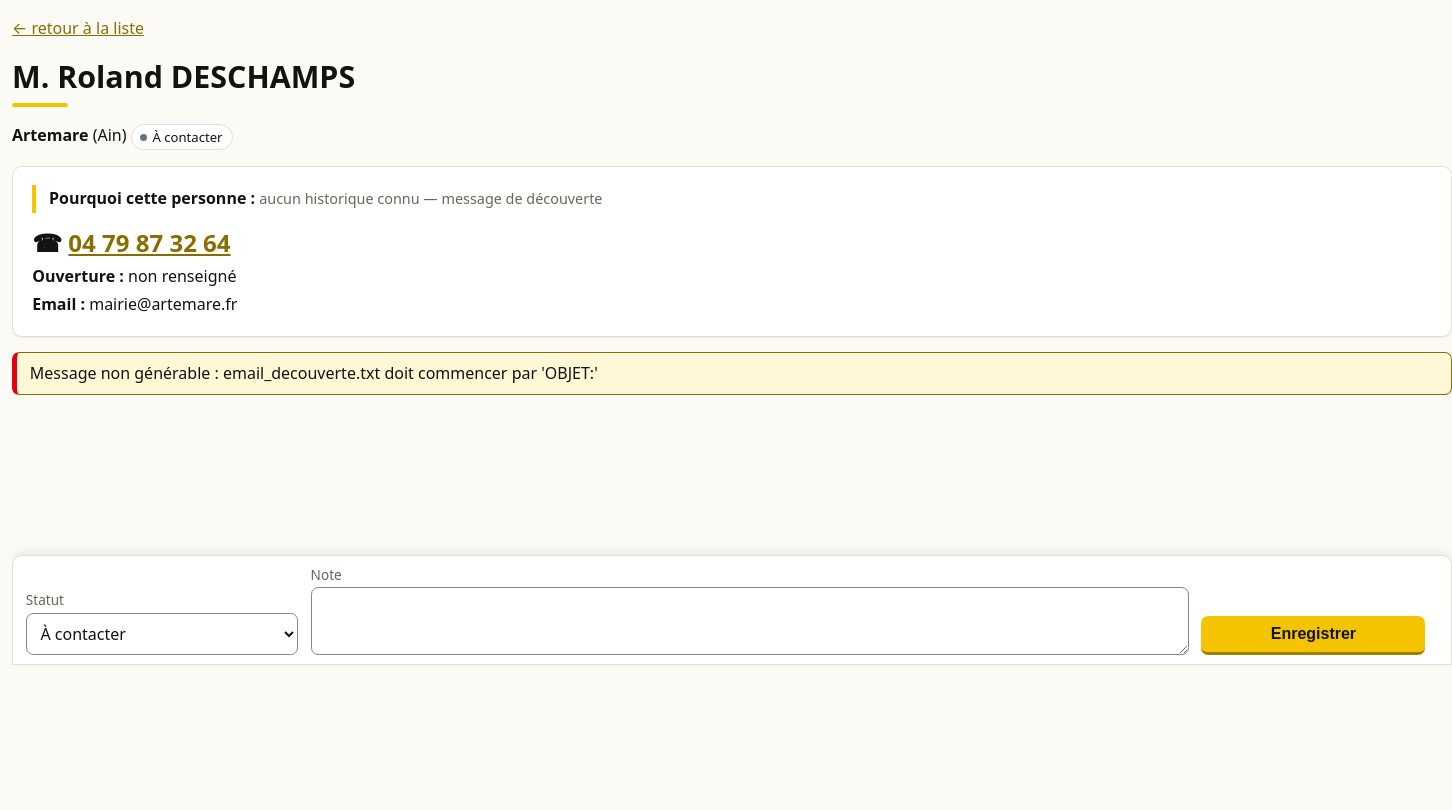
it: Fiche › refuses a press with nothing to file, out loud, and recovers
Click the button "Enregistrer" at (1313, 635), box [1201,616,1425,655]
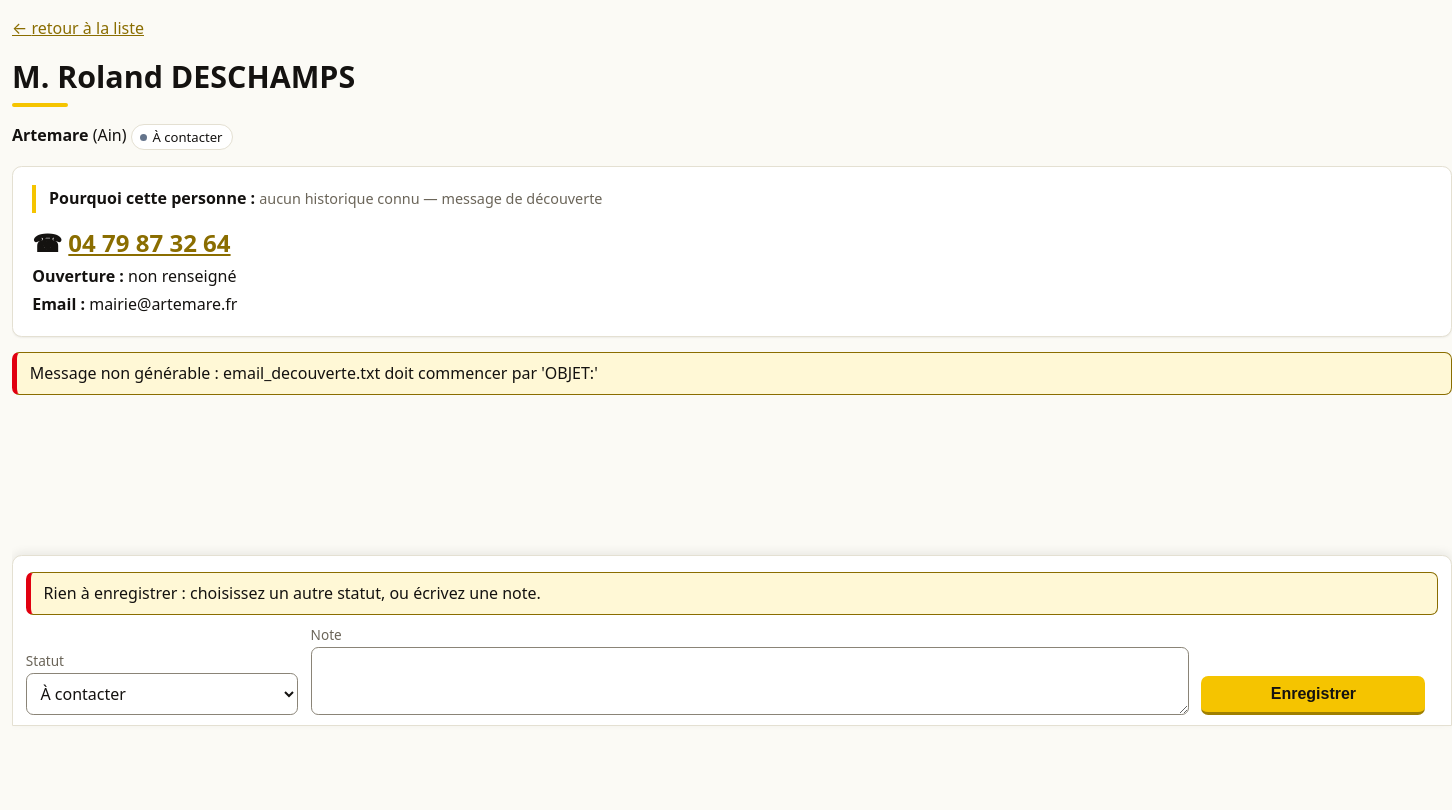
Check: the text "Rien à enregistrer" is shown, box [44,582,541,604]
Select "Email envoyé" in the dropdown labelled "Statut" at (162, 694), box [26,673,298,715]
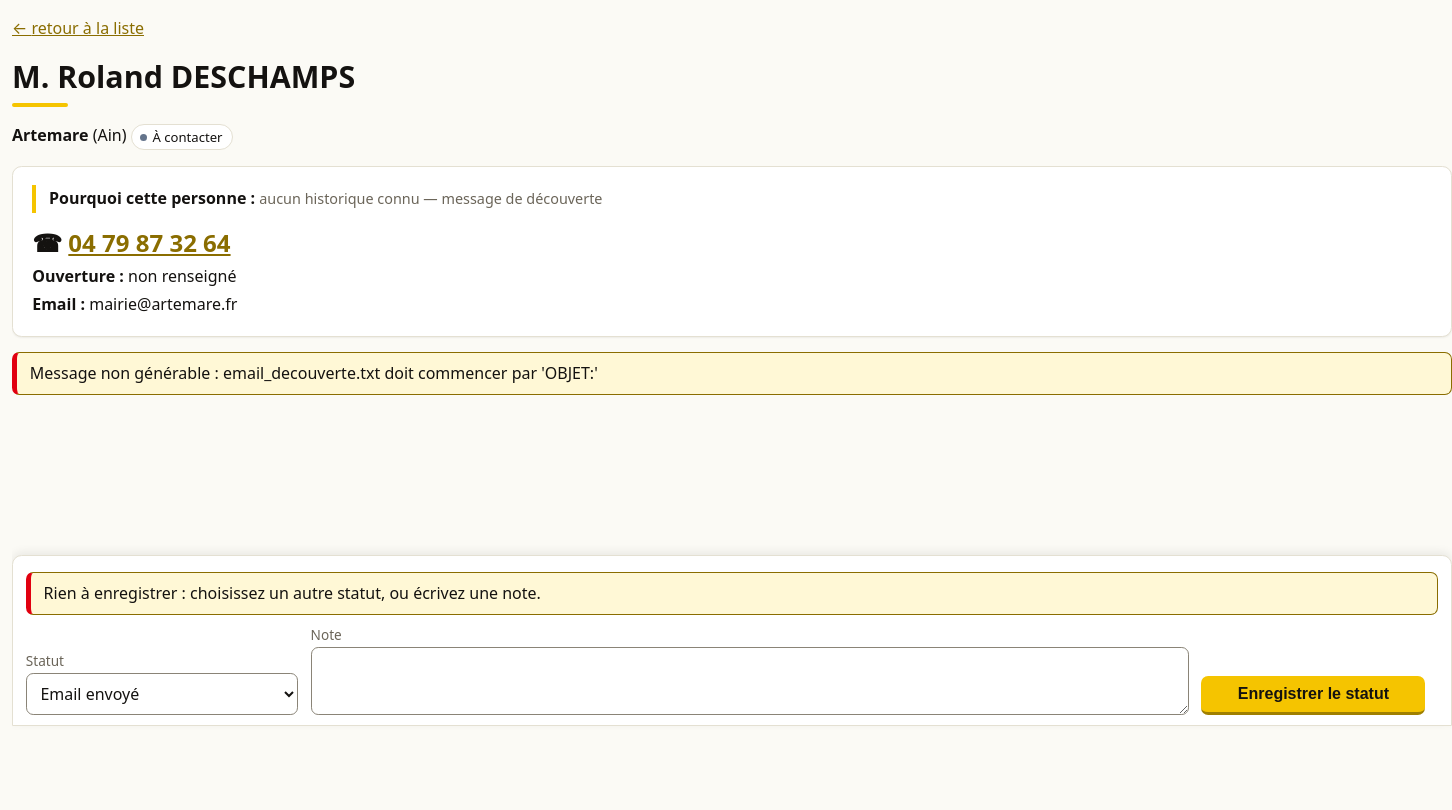
Click the button "Enregistrer le statut" at (1313, 696), box [1201,676,1425,715]
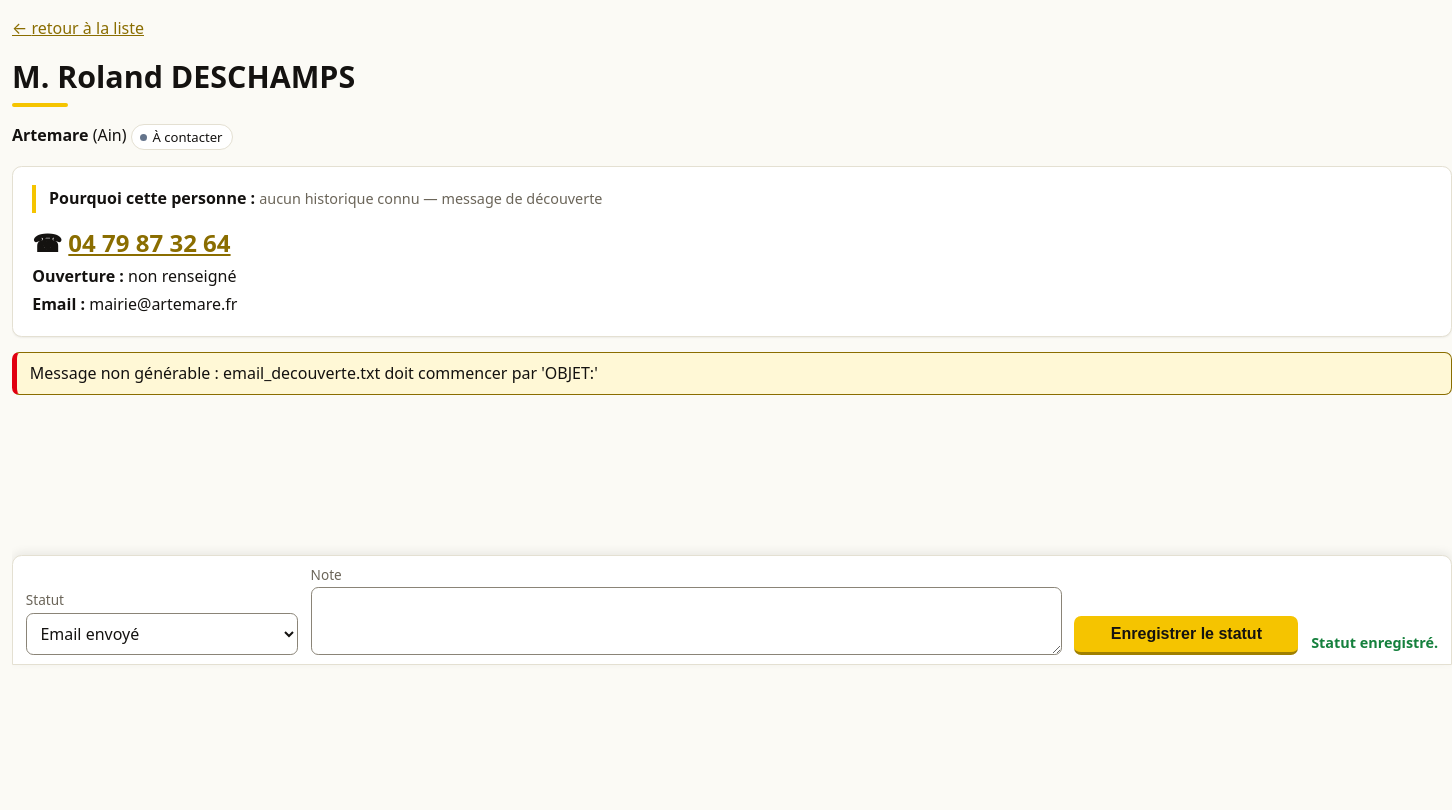
Check: the text "Rien à enregistrer" is gone
Check: the text "Statut enregistré." is shown, box [1311,632,1438,655]
